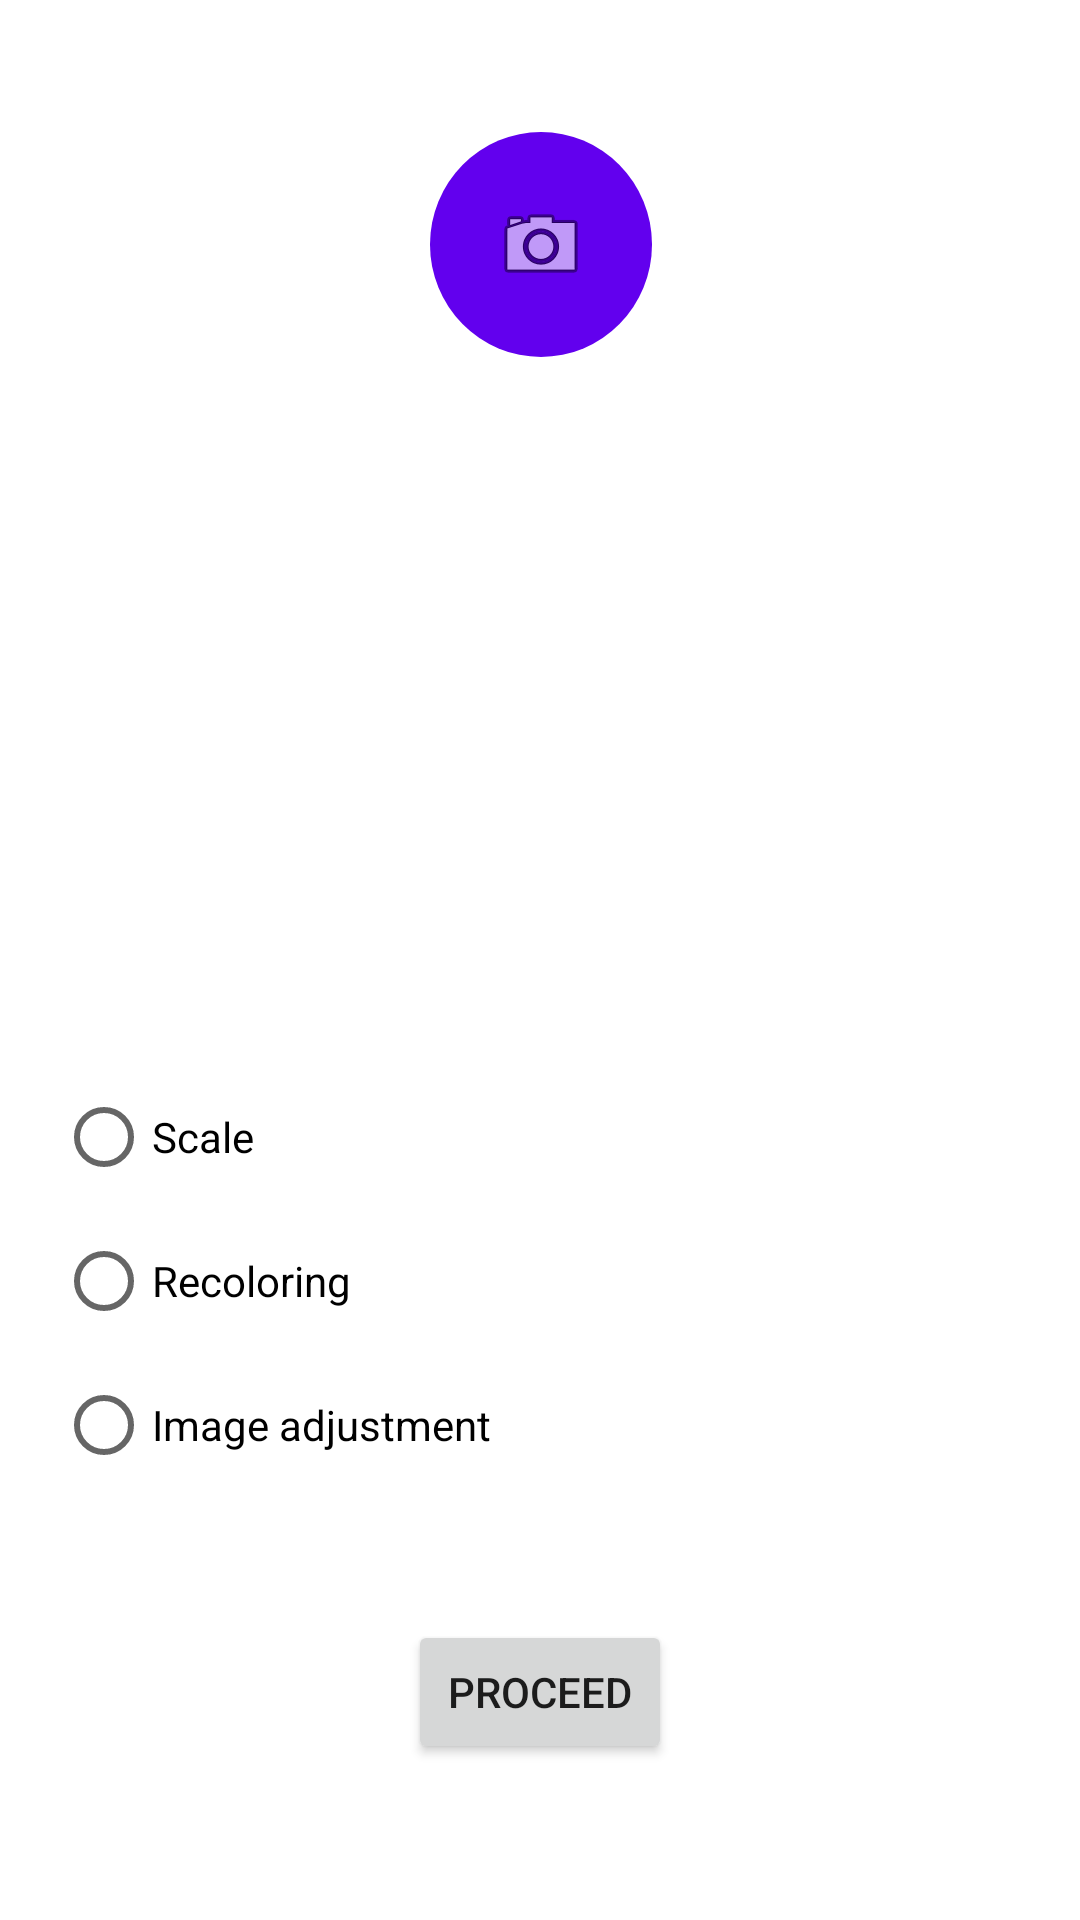

Icons on this 1080x1920 Android screen, each with its box as Rect(x1, y1, x2, y2):
Select a picture: Rect(430, 132, 652, 357)
